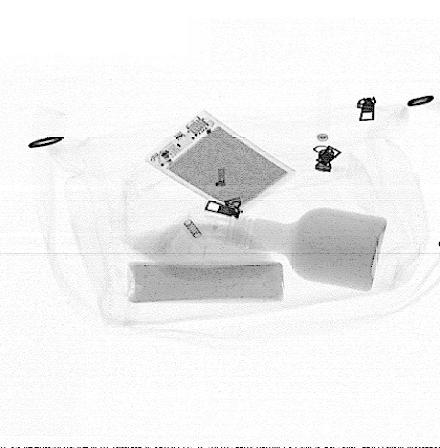Powerbank: (145, 108, 297, 216)
